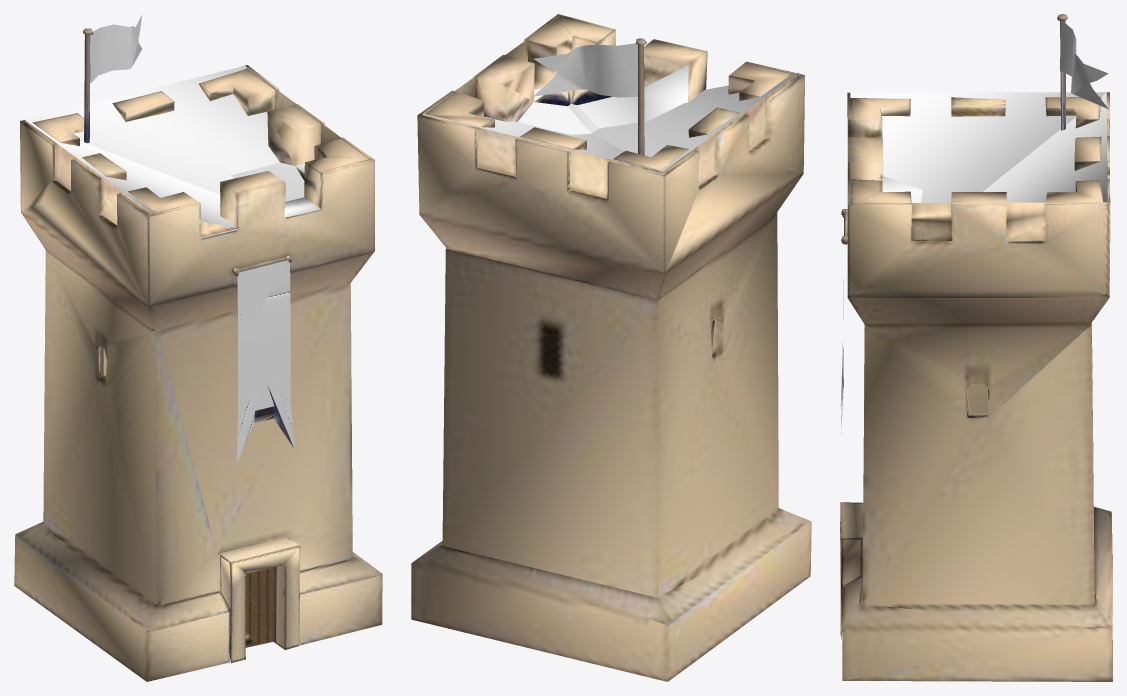
3 views of the same model, side by side, from view 1: azimuth 30°, elevation 25°; view 2: azimuth 150°, elevation 25°; view 3: azimuth 270°, elevation 25° (orthographic). The views are drawn at different scales.
Visible parts, largest first — view 1: base; view 2: base; view 3: base.
Boxes of the visible parts, x1,y1,x2,y2 form: base: [14, 14, 382, 681]; base: [411, 14, 811, 681]; base: [840, 14, 1112, 681].
Size of the model in its own units: 1.9 by 4.3 by 1.86.
2 materials, 1 textured.
